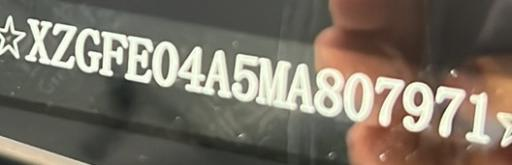letter: (254, 56, 292, 111), (434, 82, 468, 141), (399, 80, 435, 133), (371, 74, 405, 129), (342, 71, 376, 122), (228, 51, 260, 104), (283, 63, 315, 116), (312, 68, 344, 119), (72, 26, 104, 76), (124, 33, 154, 86), (150, 37, 180, 90), (202, 46, 232, 99), (98, 30, 128, 82), (176, 44, 206, 95), (464, 89, 492, 143), (24, 14, 52, 68), (49, 20, 77, 70)
